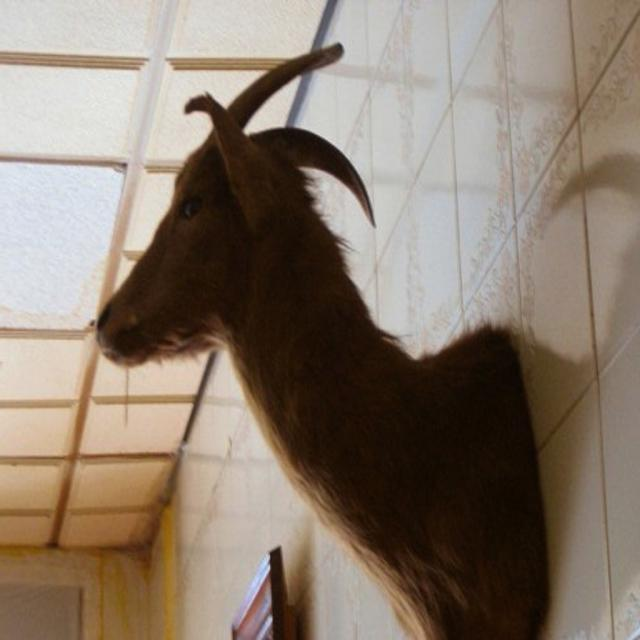Goat: (95, 40, 552, 639)
